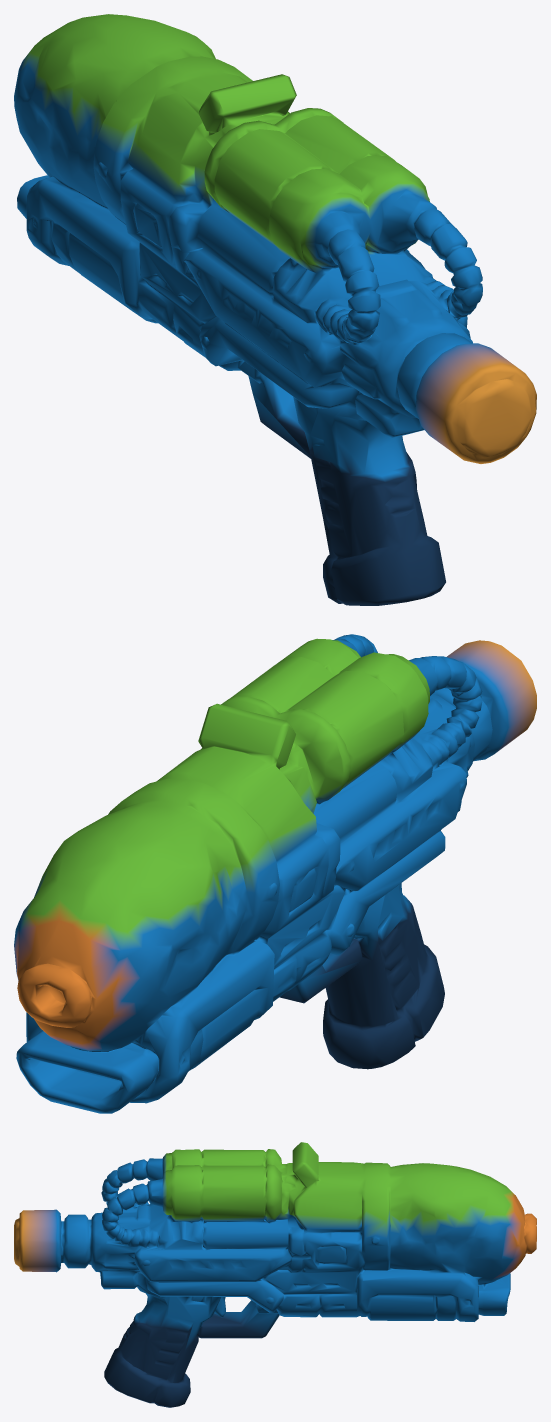
File: hydrocore-blaster.glb
The picture shows the model from 3 angles, top to bottom: view 1: azimuth 30°, elevation 25°; view 2: azimuth 150°, elevation 25°; view 3: azimuth 270°, elevation 25°; orthographic projection. The views are drawn at different scales.
Parts seen in each view (by area): view 1: Official Hydrocore Blaster; view 2: Official Hydrocore Blaster; view 3: Official Hydrocore Blaster.
Part boxes in pixels (box(x1,y1,x2,y2)): Official Hydrocore Blaster: box(14, 14, 536, 605); Official Hydrocore Blaster: box(14, 634, 536, 1113); Official Hydrocore Blaster: box(14, 1142, 536, 1407).
Bounding box in the file's own units: 0.1796 × 0.4229 × 0.7998.
